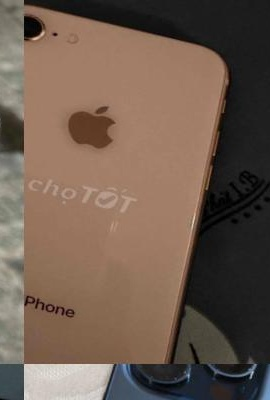scratch: (167, 179, 214, 305), (111, 364, 270, 400), (24, 7, 51, 45), (102, 212, 126, 238)
